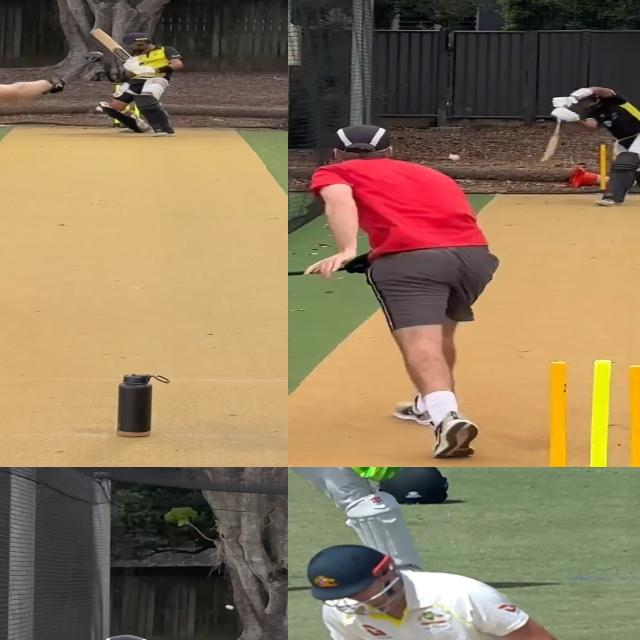Cricket ball: (447, 152, 462, 161), (224, 603, 237, 610), (95, 104, 105, 113)
Stumps: (526, 358, 640, 467)
